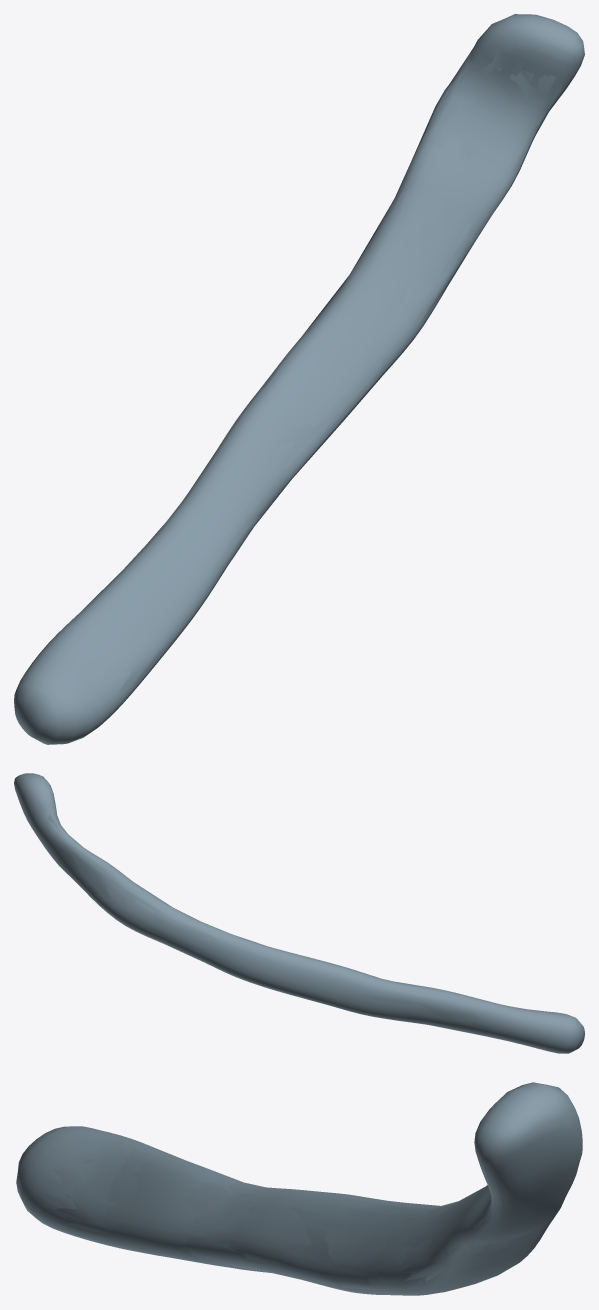
3 views of the same model, one above another, from view 1: azimuth 30°, elevation 25°; view 2: azimuth 150°, elevation 25°; view 3: azimuth 270°, elevation 25° (orthographic). The views are drawn at different scales.
Visible parts, largest first — view 1: CC L07, CC L07 high, CC L07 low; view 2: CC L07 high, CC L07, CC L07 low; view 3: CC L07, CC L07 high, CC L07 low.
Part boxes in pixels (box(x1,y1,x2,y2)): CC L07: box(14, 14, 584, 744); CC L07 high: box(14, 15, 584, 744); CC L07 low: box(72, 46, 562, 690); CC L07 high: box(16, 773, 584, 1053); CC L07: box(14, 773, 584, 1053); CC L07 low: box(48, 809, 518, 1034); CC L07: box(16, 1082, 582, 1295); CC L07 high: box(17, 1084, 581, 1295); CC L07 low: box(56, 1142, 532, 1290).
Size of the model in its own units: 14.62 by 8 by 7.87.
